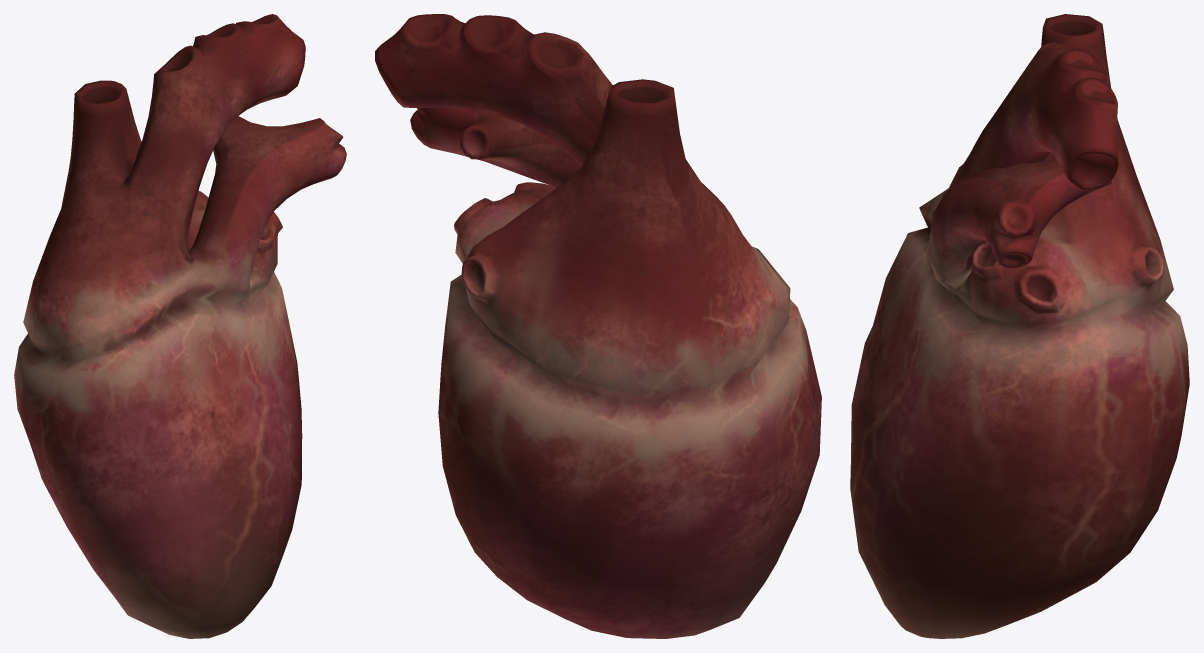
File: heart_v_1_3.fbx
3 views of the same model, side by side, from view 1: azimuth 30°, elevation 25°; view 2: azimuth 150°, elevation 25°; view 3: azimuth 270°, elevation 25° (orthographic). The views are drawn at different scales.
Parts seen in each view (by area): view 1: heart_2; view 2: heart_2; view 3: heart_2.
Part boxes in pixels (x1=…): heart_2: x1=14, y1=14, x2=346, y2=638; heart_2: x1=375, y1=14, x2=821, y2=638; heart_2: x1=850, y1=14, x2=1189, y2=638.
Bounding box in the file's own units: 168 × 275 × 137.
